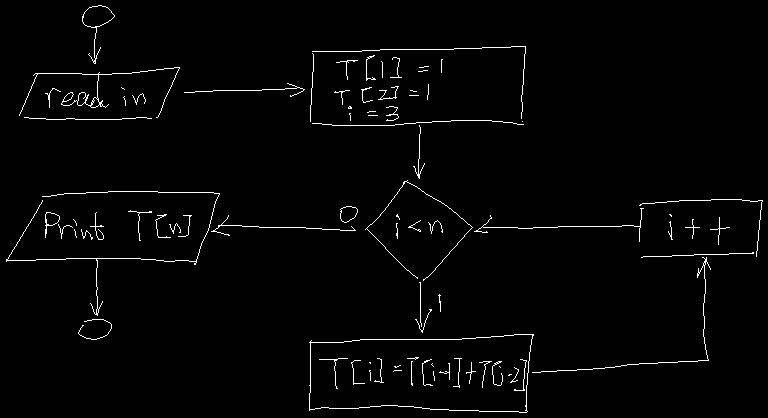arrow: (532, 257, 710, 372), (211, 215, 355, 235), (474, 215, 639, 232), (184, 83, 304, 96), (415, 282, 431, 332), (90, 259, 102, 315), (413, 125, 424, 178), (88, 26, 100, 63)
connection: (82, 5, 114, 27), (78, 319, 111, 339)
data: (6, 191, 219, 264), (19, 67, 179, 119)
decision: (365, 180, 472, 280)
process: (309, 334, 533, 412), (310, 46, 525, 125), (639, 199, 762, 257)
text: (334, 55, 442, 120), (319, 357, 526, 390), (45, 210, 191, 240), (45, 72, 145, 107), (668, 214, 729, 244), (396, 214, 442, 238), (340, 206, 357, 222), (438, 294, 441, 311)
